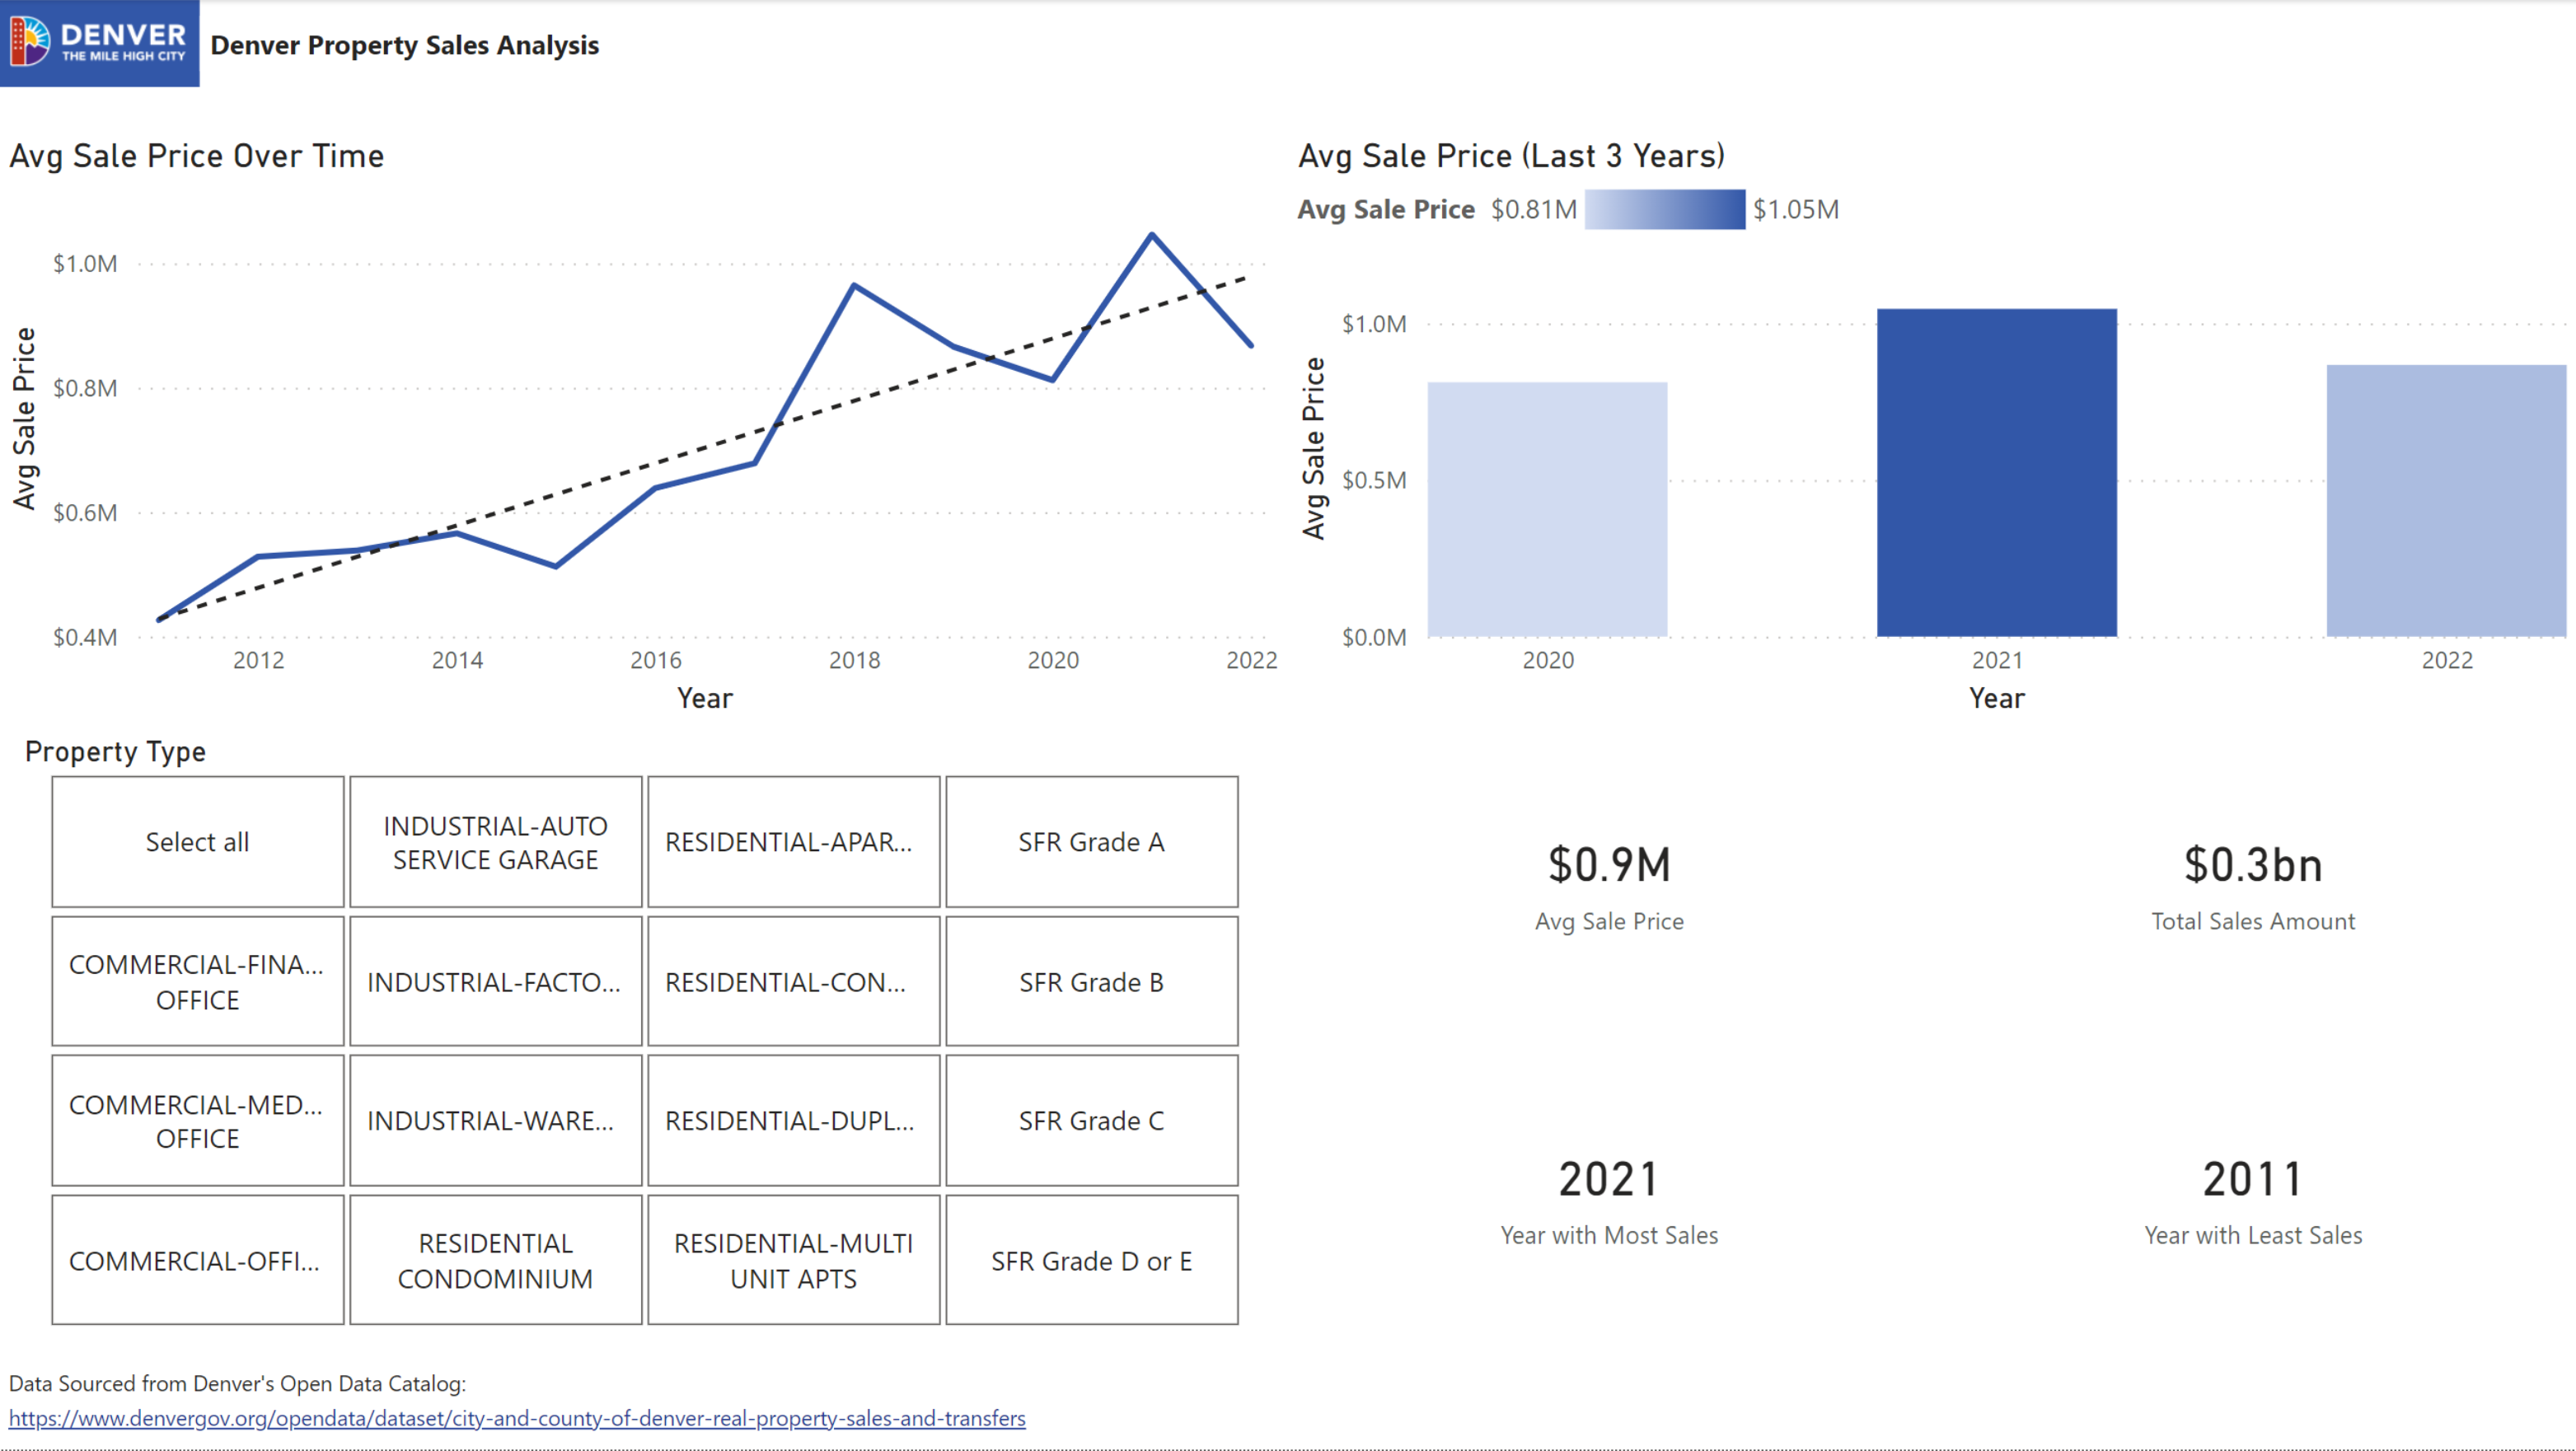

What the dashboard file says about the page in this screenshot:
{"tool":"powerbi","page":{"name":"Dashboard","canvas":[1280,720],"ordinal":0},"visuals":[{"type":"shape","box":[0,0,100.1,43.2],"z":0},{"type":"lineChart","title":"Avg Sale Price Over Time","fields":{"Category":["denver_property_sales.SALE_YEAR"],"Y":["denver_property_sales.AvgSalePrice"]},"box":[0,66.7,640,293.2],"z":1000},{"type":"slicer","fields":{"Values":["denver_property_sales.PROPERTY_TYPE"]},"box":[0,359.9,640,305.6],"z":2000},{"type":"clusteredColumnChart","title":"Avg Sale Price (Last 3 Years)","fields":{"Category":["denver_property_sales.SALE_YEAR"],"Y":["denver_property_sales.AvgSalePrice"]},"box":[640,66.7,640,293.2],"z":3000},{"type":"image","box":[0,0,100.1,43.2],"z":4000},{"type":"textbox","box":[100.1,7.9,219.9,27.5],"z":5000},{"type":"textbox","box":[0,671.4,530.1,48.4],"z":6000},{"type":"card","fields":{"Values":["denver_property_sales.AvgSalePrice"]},"box":[640,359.9,320,153.1],"z":7000},{"type":"card","fields":{"Values":["denver_property_sales.Total Sale Price"]},"box":[960,359.9,320,153.1],"z":8000},{"type":"card","fields":{"Values":["Max(denver_property_sales.SALE_YEAR)"]},"box":[640,513,320,158.4],"z":9000},{"type":"card","fields":{"Values":["Max(denver_property_sales.SALE_YEAR)"]},"box":[960,513,320,158.4],"z":10000}]}

Visuals, with their boxes in screenshot pixels (x1, y1, x2, y2), scaled from the page's 1280x720 canvas onto the 2576x1451 screenshot:
shape: [0,0,201,87]
"Avg Sale Price Over Time" lineChart: [0,134,1288,725]
slicer - denver_property_sales.PROPERTY_TYPE: [0,725,1288,1341]
"Avg Sale Price (Last 3 Years)" clusteredColumnChart: [1288,134,2575,725]
image: [0,0,201,87]
textbox: [201,16,644,72]
textbox: [0,1353,1067,1450]
card - denver_property_sales.AvgSalePrice: [1288,725,1932,1034]
card - denver_property_sales.Total Sale Price: [1932,725,2575,1034]
card - Max(denver_property_sales.SALE_YEAR): [1288,1034,1932,1353]
card - Max(denver_property_sales.SALE_YEAR): [1932,1034,2575,1353]
